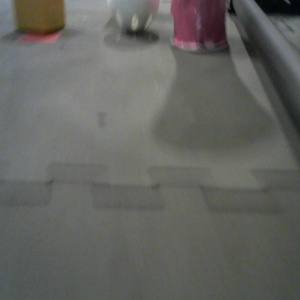right: (170, 1, 229, 53)
